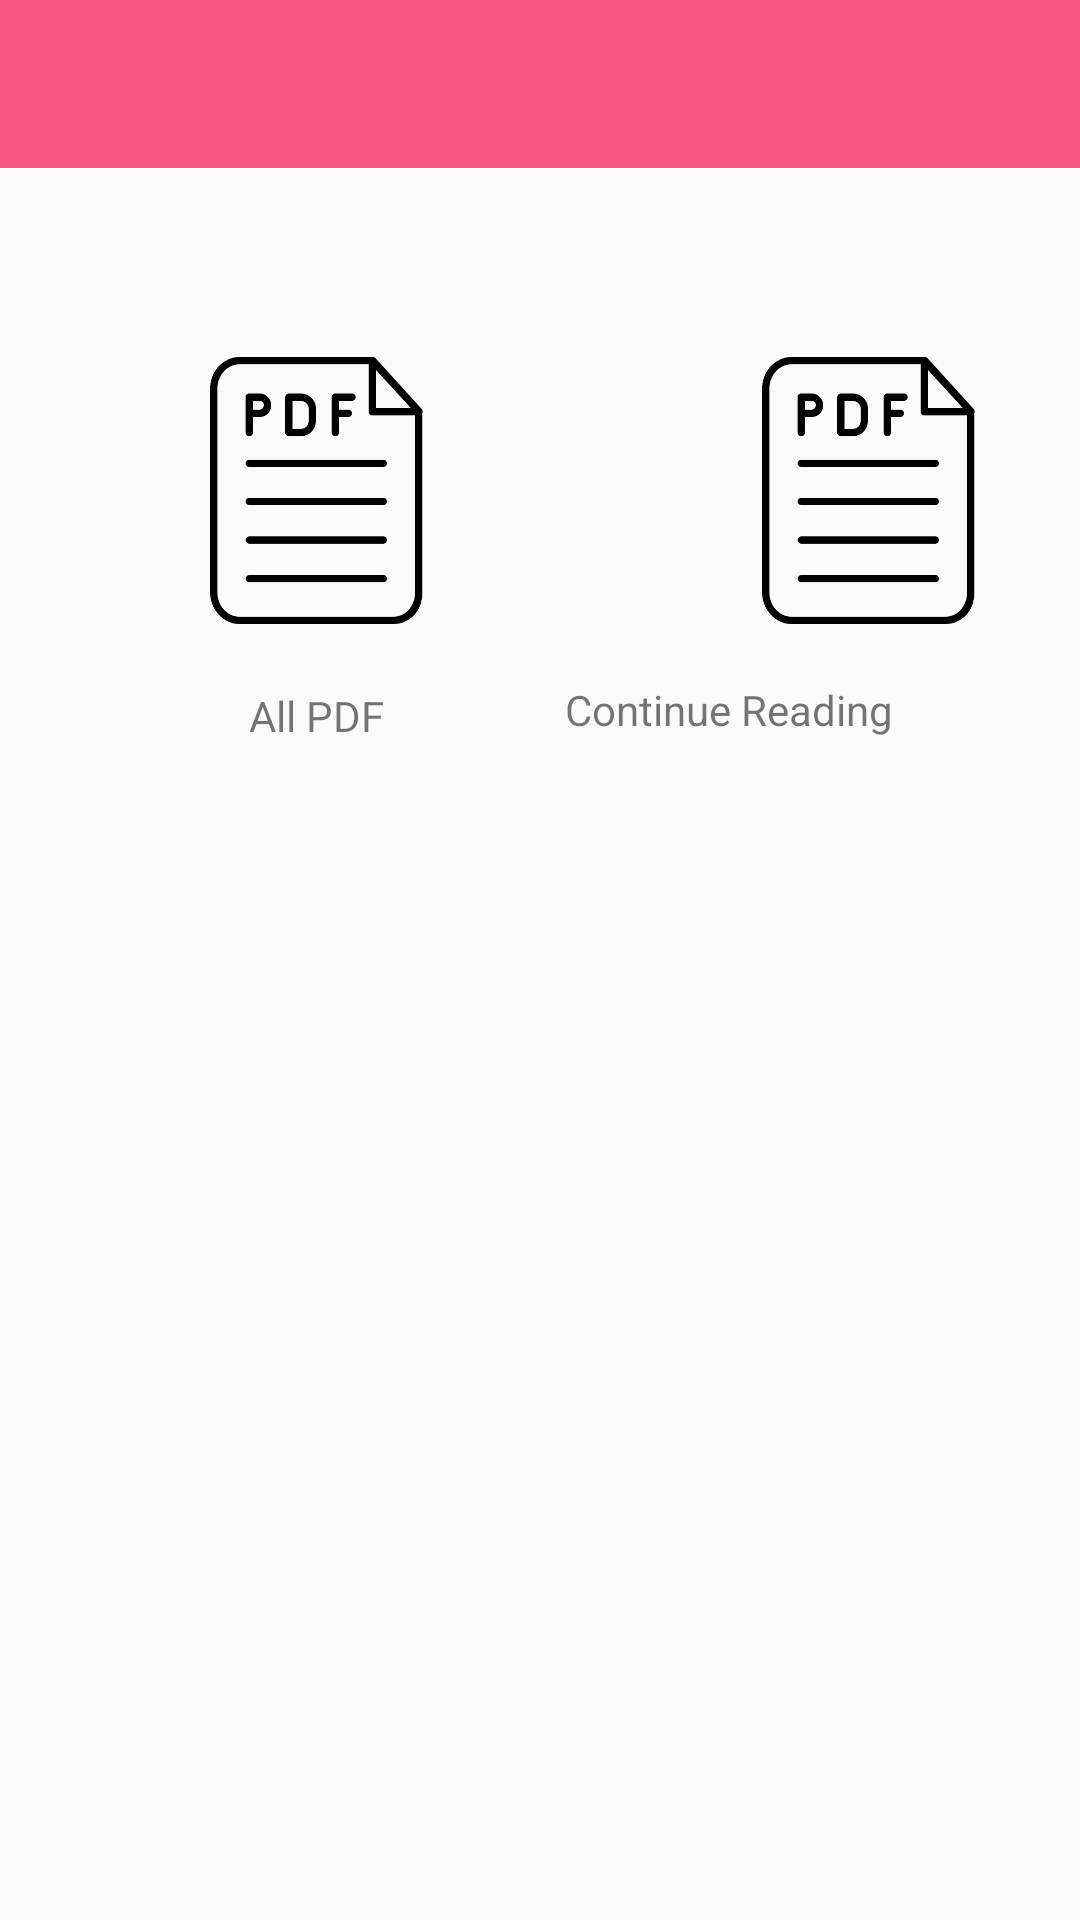

Named icons in this screenshot (1080×1920) and their centers, [x,y]:
pdfmain: [316,490], [868,490]
